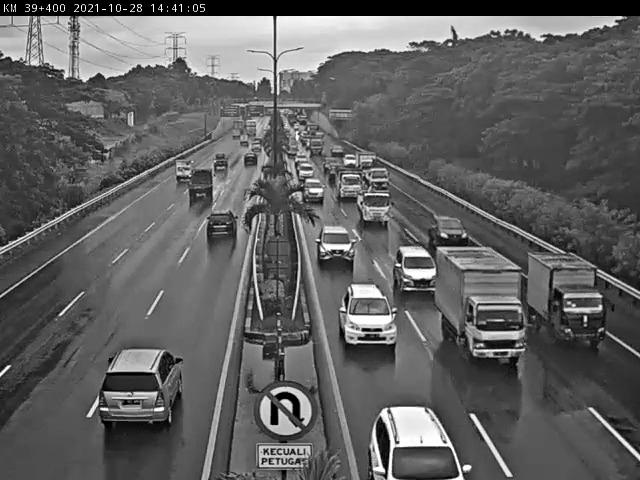car: (338, 283, 397, 348), (392, 245, 436, 293), (315, 223, 356, 267), (428, 215, 468, 245), (205, 207, 239, 239)
mid truck: (434, 245, 527, 362), (98, 346, 185, 425), (356, 188, 393, 228), (185, 167, 214, 198)
small truck: (525, 248, 606, 348)
